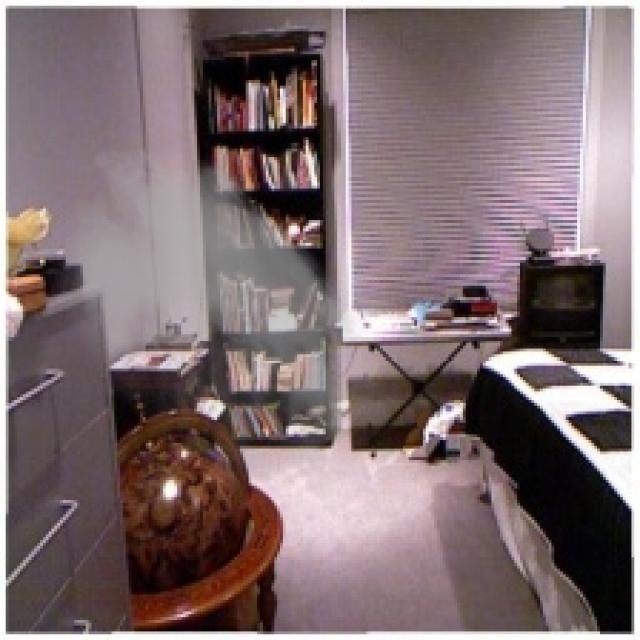Smoke: (37, 135, 397, 520)
